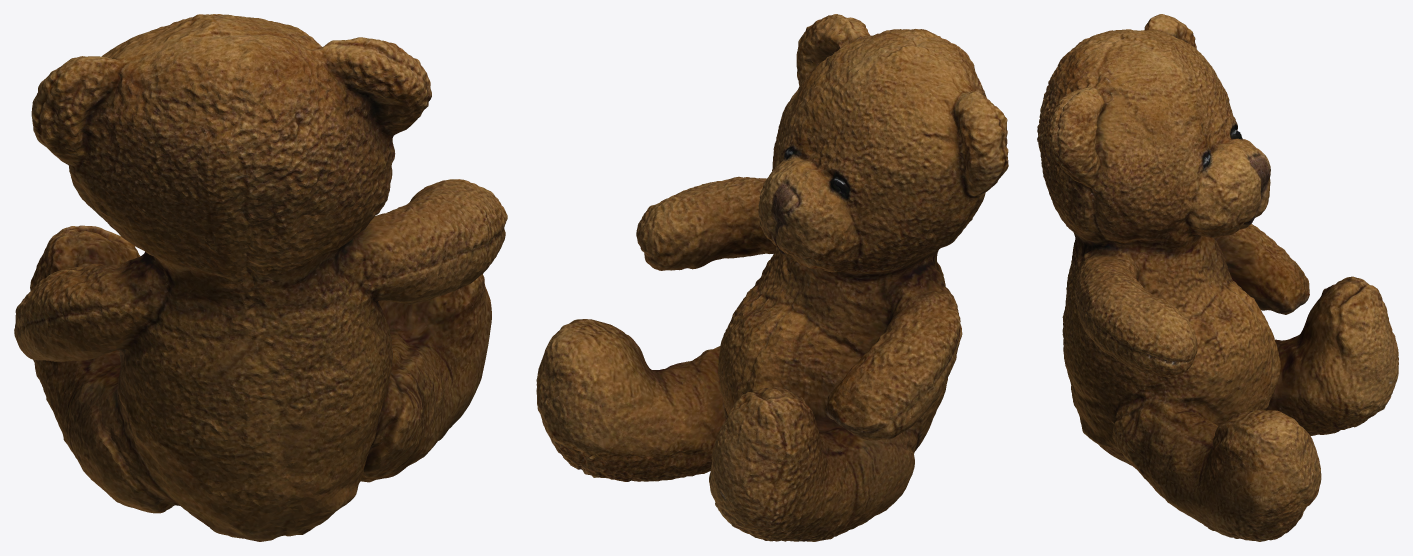
3 views of the same model, side by side, from view 1: azimuth 30°, elevation 25°; view 2: azimuth 150°, elevation 25°; view 3: azimuth 270°, elevation 25° (orthographic). The views are drawn at different scales.
Bounding box in the file's own units: 4.07 × 4.09 × 3.35.
1 material, 1 textured.
